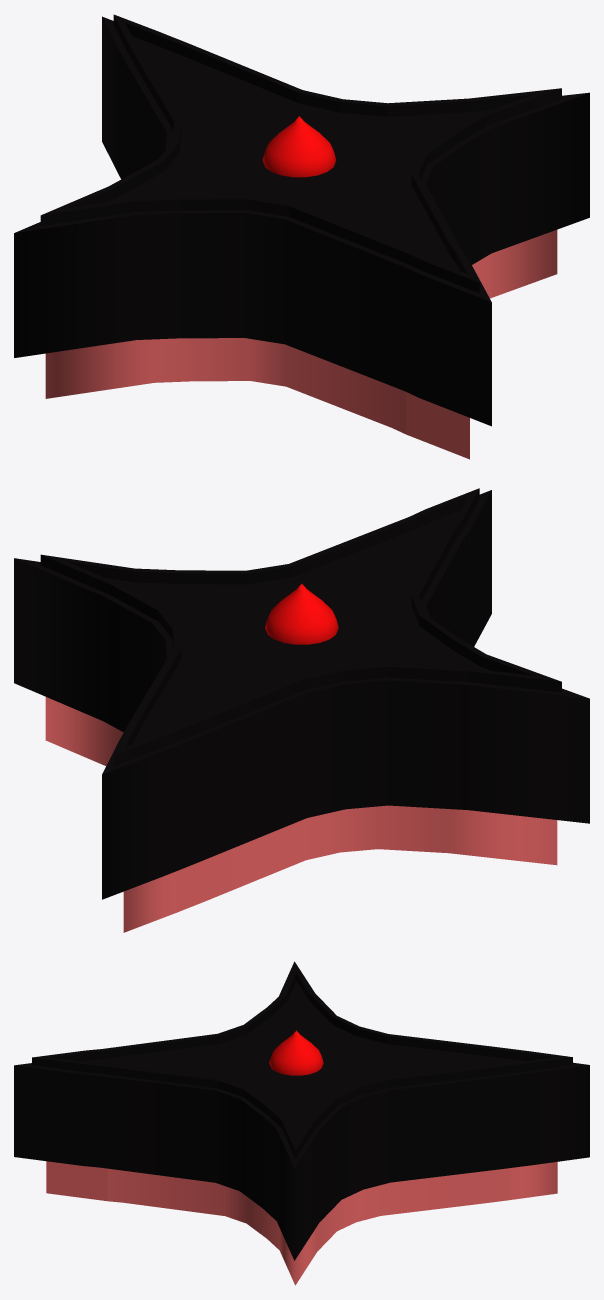
Rendered from diamond_snack_item 1.FBX.
3 views of the same model, one above another, from view 1: azimuth 30°, elevation 25°; view 2: azimuth 150°, elevation 25°; view 3: azimuth 270°, elevation 25° (orthographic). The views are drawn at different scales.
Visible parts, largest first — view 1: diamond001, diamond, Cylinder005; view 2: diamond001, diamond, Cylinder005; view 3: diamond001, diamond, Cylinder005.
Boxes of the visible parts, <box> form: diamond001: <box>14,14,589,426</box>; diamond: <box>45,230,557,459</box>; Cylinder005: <box>262,116,336,177</box>; diamond001: <box>14,488,589,899</box>; diamond: <box>45,697,557,932</box>; Cylinder005: <box>265,583,338,644</box>; diamond001: <box>14,961,589,1260</box>; diamond: <box>46,1161,557,1285</box>; Cylinder005: <box>269,1030,323,1075</box>.
Size of the model in its own units: 114 by 41.48 by 133.
